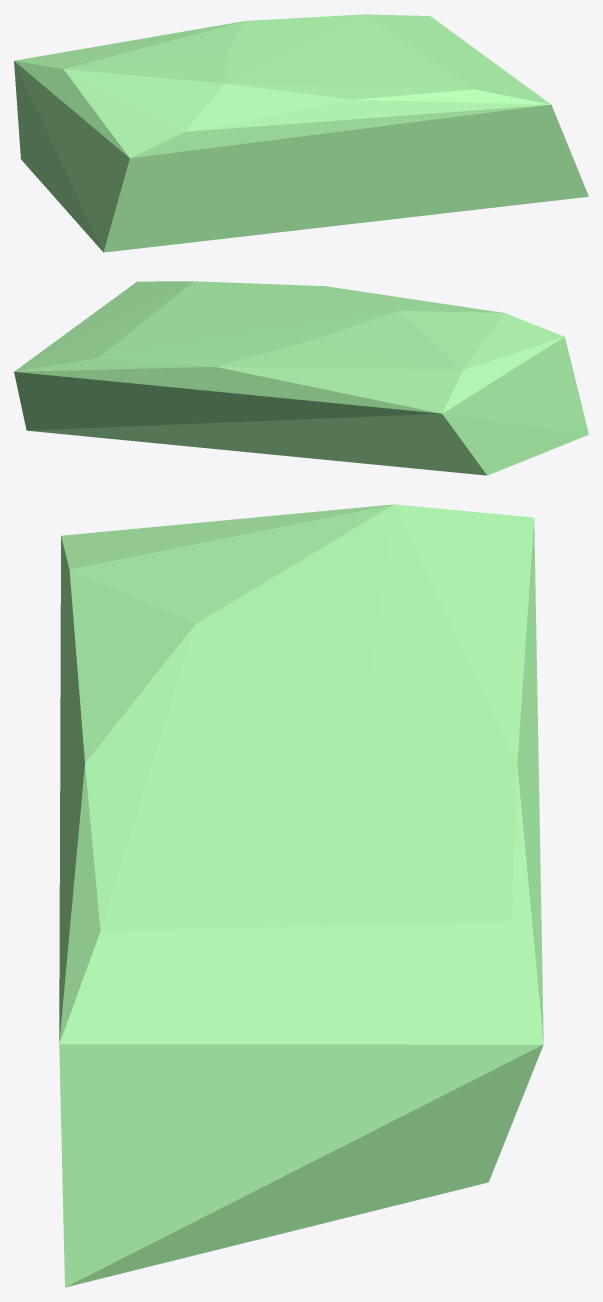
The model's file is UMIRobot_UMIRobot_link_2_convex_coll_10.dae.
3 views of the same model, one above another, from view 1: azimuth 30°, elevation 25°; view 2: azimuth 150°, elevation 25°; view 3: azimuth 270°, elevation 25° (orthographic). The views are drawn at different scales.
Visible parts, largest first — view 1: node; view 2: node; view 3: node.
Boxes of the visible parts, box(x1,y1,x2,y2) form: node: box(14, 14, 588, 252); node: box(14, 281, 588, 475); node: box(59, 504, 543, 1287).
Size of the model in its own units: 0.0456 by 0.0157 by 0.0197.
